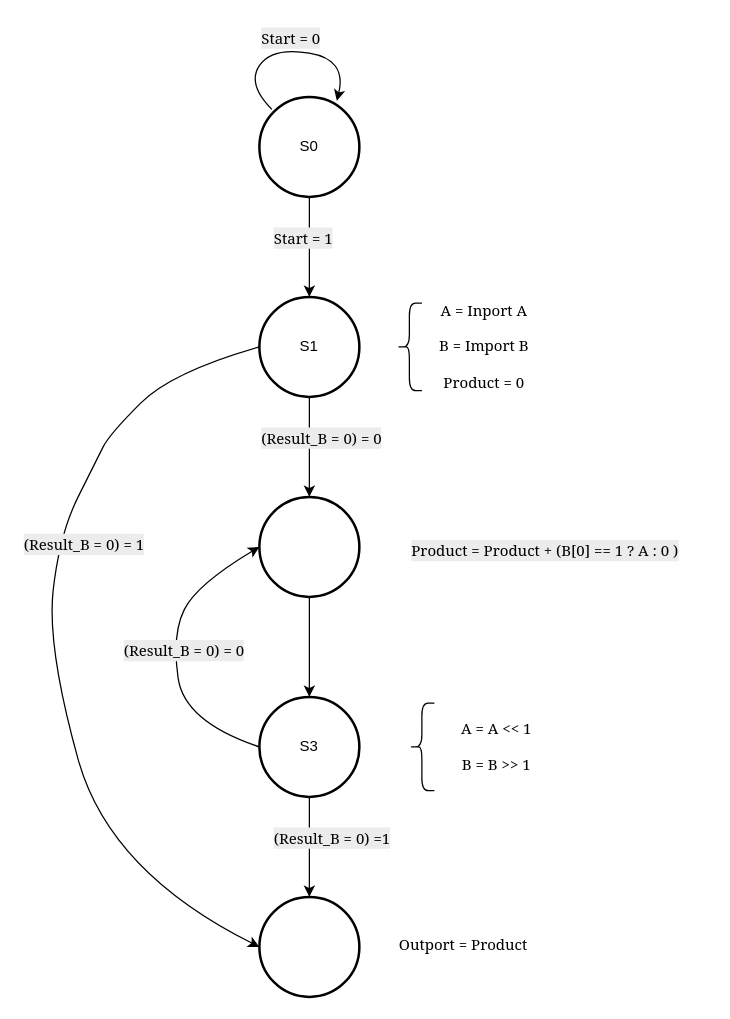
This 730x1019 diagram has some shape labels left out. The shapes that lost their labels are listed below. From the top down, each one's centre as x and y in pixels, then its label:
At [309,546]: "S2".
At [309,946]: "S4".
